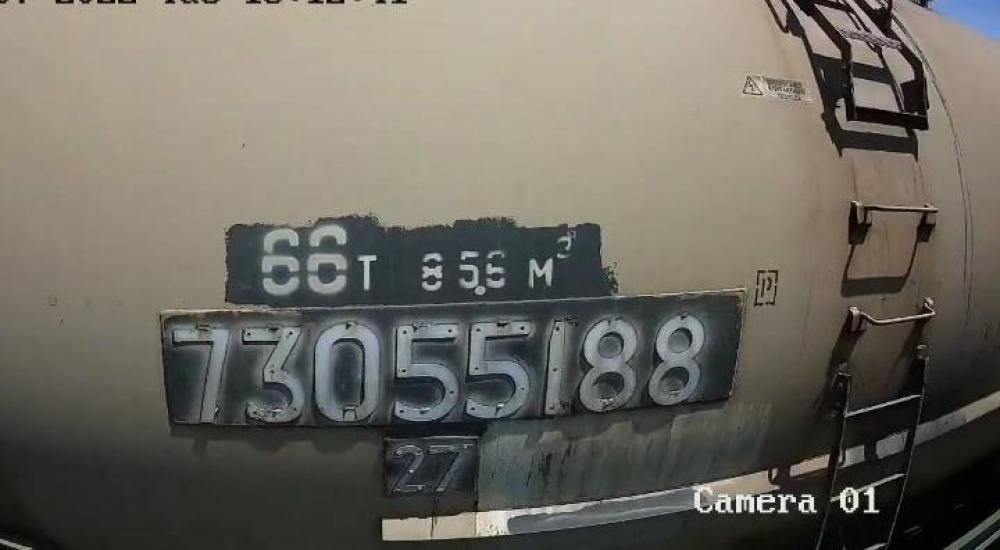Wagon-number: (164, 306, 706, 426)
